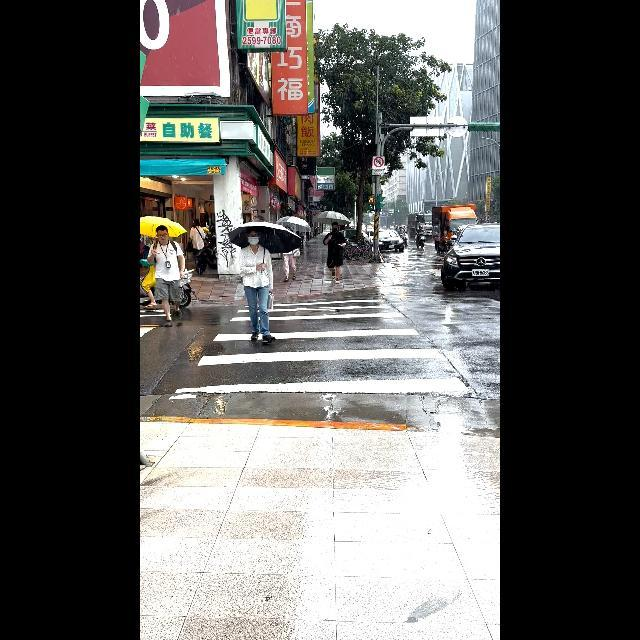sidewalk: (171, 297, 472, 400)
